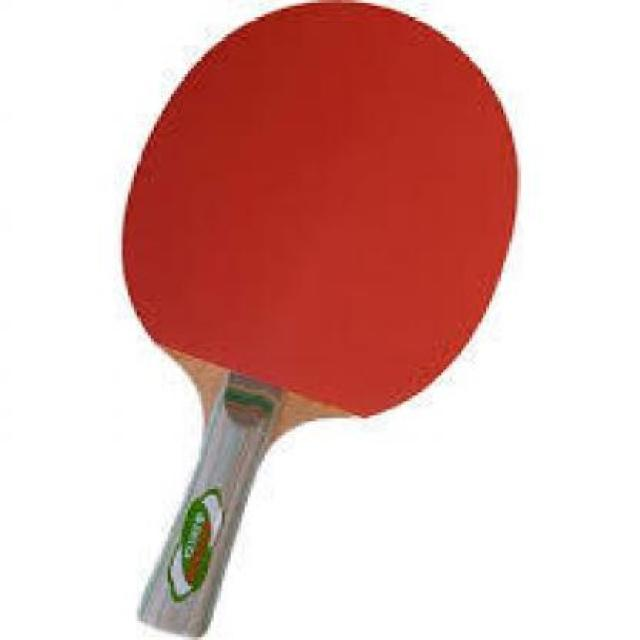table_tennis_racket: (115, 0, 527, 434)
